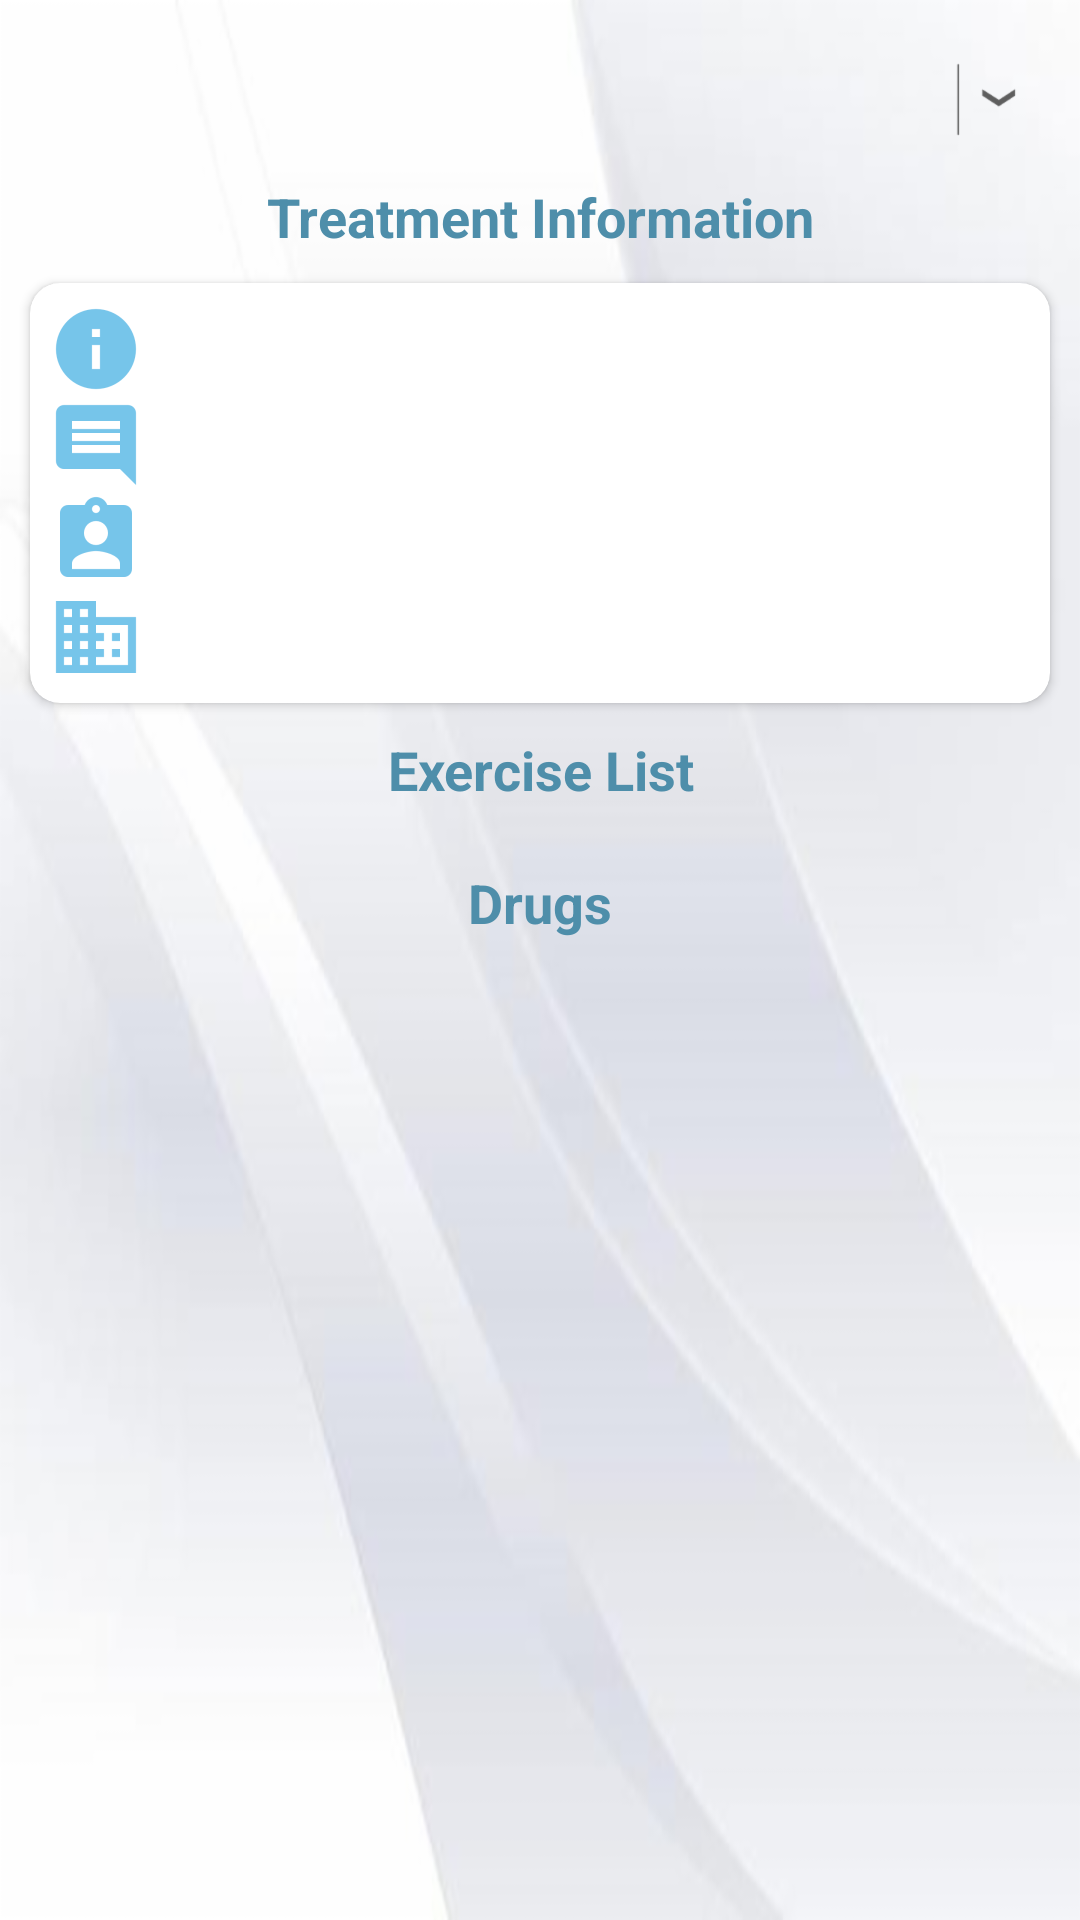

Where to tap for icons on this 1080px x 1920px app screen, as (x=x, y=y):
spinner drop: (x=986, y=99)
